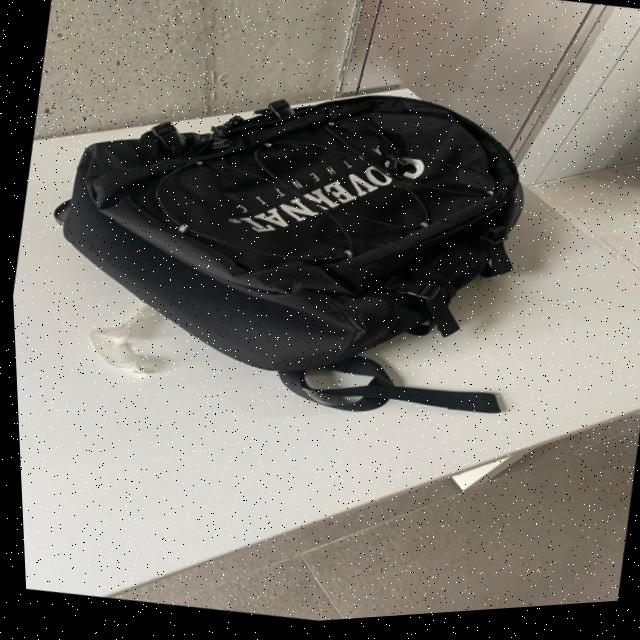backpack: (16, 23, 565, 435)
